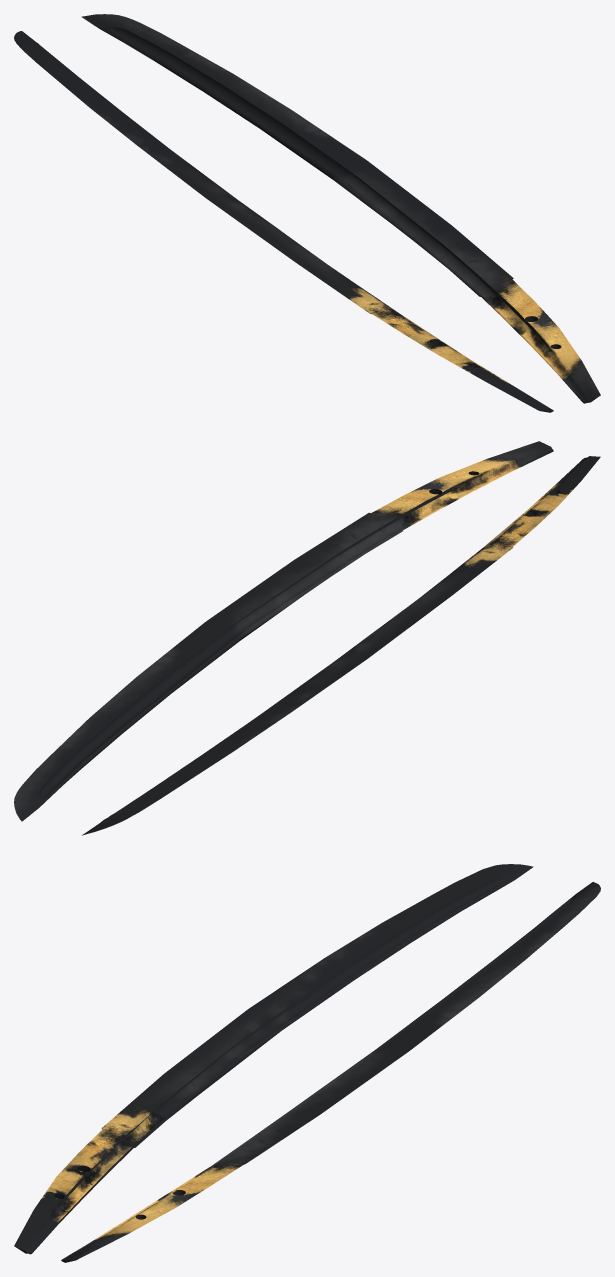
Rendered from mitutada.gltf.
The picture shows the model from 3 angles, top to bottom: view 1: azimuth 30°, elevation 25°; view 2: azimuth 150°, elevation 25°; view 3: azimuth 330°, elevation 25°; orthographic projection.
Parts seen in each view (by area): view 1: Plane; view 2: Plane; view 3: Plane.
Part boxes in pixels (bbox=[...]): Plane: bbox=[14, 14, 600, 412]; Plane: bbox=[14, 441, 600, 835]; Plane: bbox=[14, 864, 600, 1262].
Size of the model in its own units: 28.32 by 3.8 by 157.
1 material, 1 textured.
